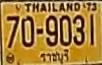0: (21, 15, 34, 46), (59, 14, 71, 44)
1: (90, 14, 94, 45)
3: (73, 14, 84, 44)
7: (6, 15, 19, 47)
9: (45, 15, 57, 46)
RBR: (39, 49, 70, 64)
